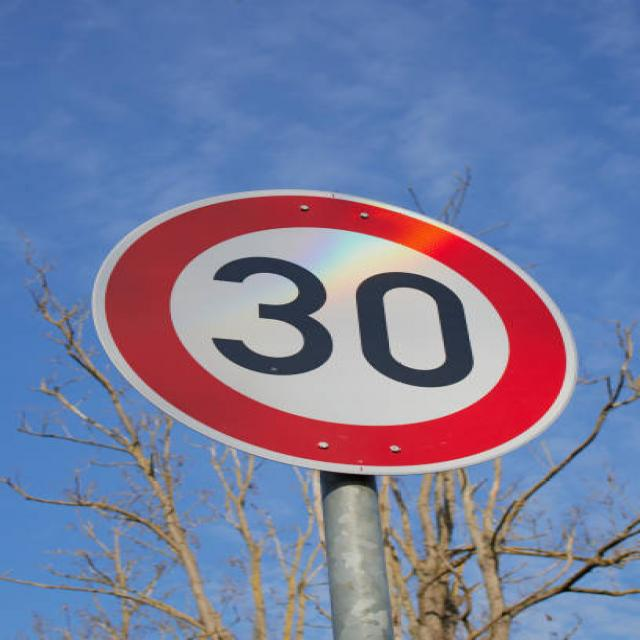speed_limit_30: (83, 176, 587, 476)
